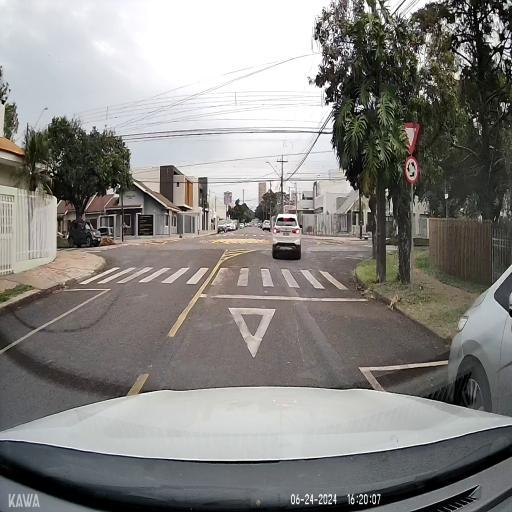R-2: (401, 122, 420, 155)
R-33: (404, 156, 419, 183)
